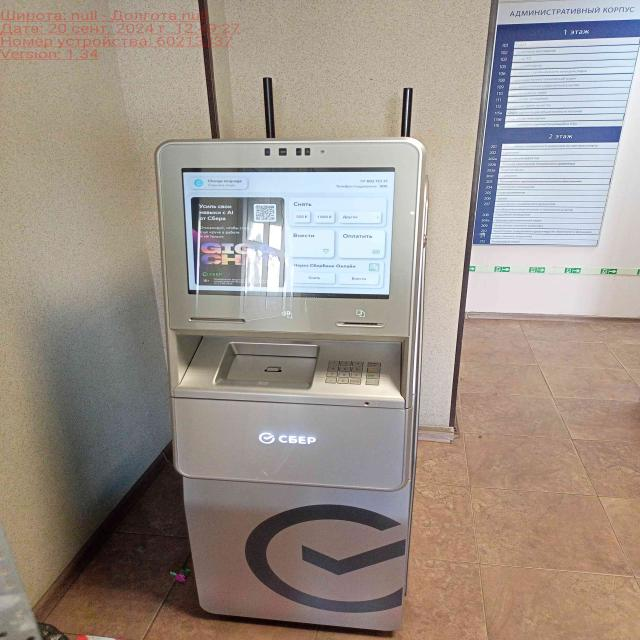bank: (140, 137, 435, 640)
